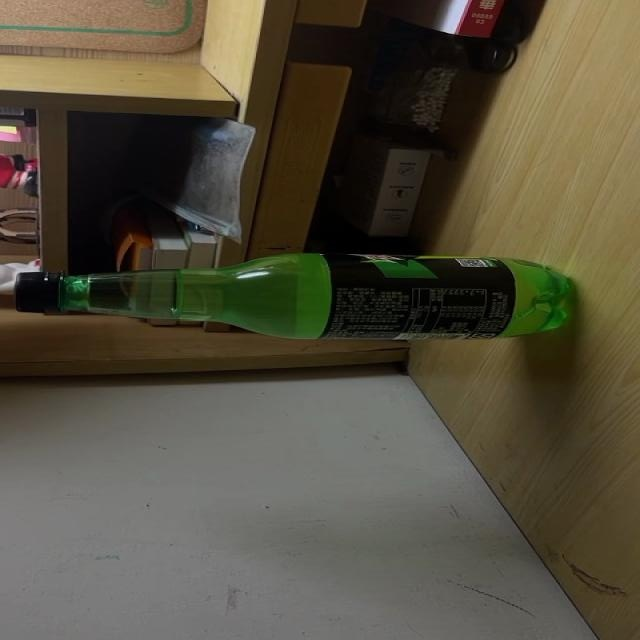Mountain-Dew: (11, 251, 574, 341)
